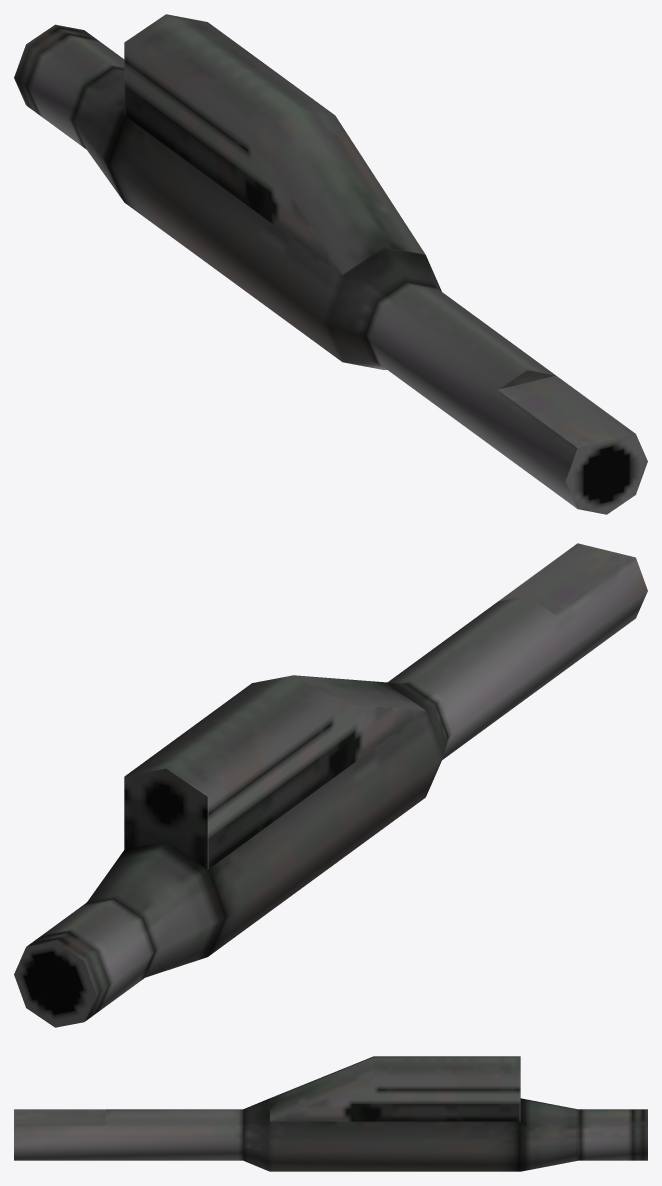
File: eqp_comp_weapon_barrel_s02_l0.fbx
3 views of the same model, one above another, from view 1: azimuth 30°, elevation 25°; view 2: azimuth 150°, elevation 25°; view 3: azimuth 270°, elevation 25° (orthographic). The views are drawn at different scales.
Visible parts, largest first — view 1: mesh_node; view 2: mesh_node; view 3: mesh_node.
Boxes of the visible parts, left/top/right/bottom form: mesh_node: left=14, top=14, right=647, bottom=514; mesh_node: left=14, top=543, right=647, bottom=1027; mesh_node: left=14, top=1056, right=647, bottom=1171.
Bounding box in the file's own units: 0.0202 × 0.0322 × 0.1638.
